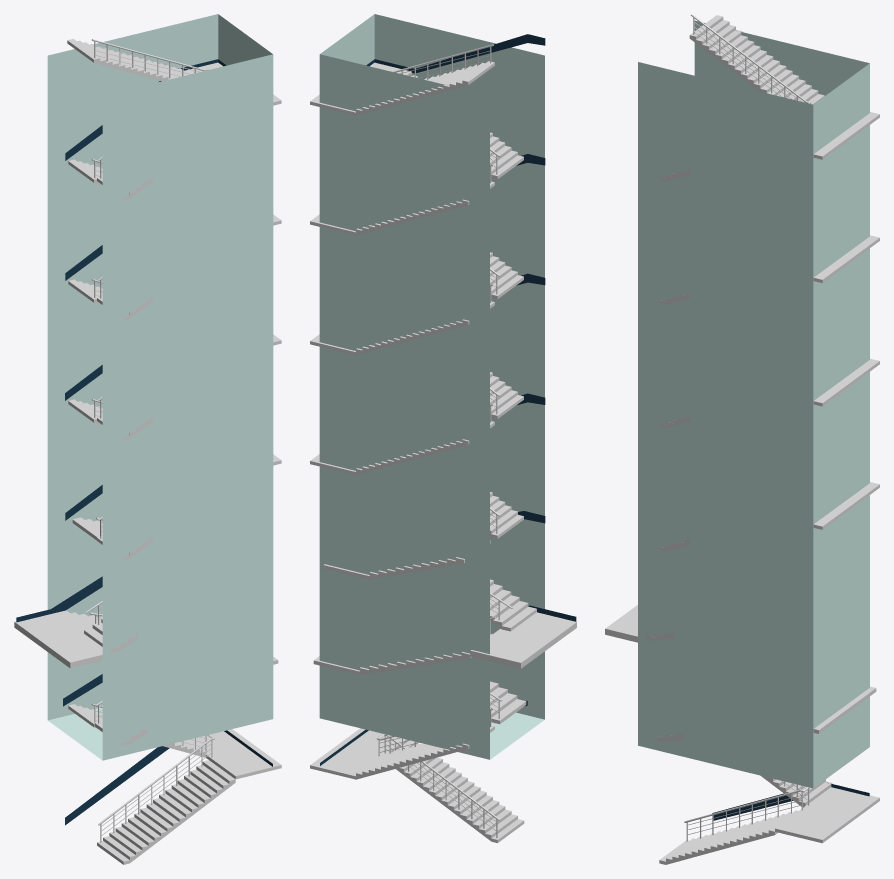
The model's file is UTypeStair_01.fbx.
3 views of the same model, side by side, from view 1: azimuth 30°, elevation 25°; view 2: azimuth 150°, elevation 25°; view 3: azimuth 330°, elevation 25° (orthographic). The views are drawn at different scales.
Parts seen in each view (by area): view 1: Srair_Passage_R, UTypeStair_B2F, Stair_Floor_B1F, UTypeStair_3F001, Stair_Fence_B2F, UTypeStair_B1_b, UTypeStair_1F, UTypeStair_2F, UTypeStair_3F, Stair_Fence_3F001, UTypeStair_B1_a; view 2: Srair_Passage_R, UTypeStair_B2F, UTypeStair_3F001, Stair_Floor_B1F, UTypeStair_B1_b, UTypeStair_B1_a, UTypeStair_1F, UTypeStair_2F, UTypeStair_3F, Stair_Fence_B2F, Stair_Fence_3F001; view 3: Srair_Passage_R, UTypeStair_B2F, UTypeStair_3F001, UTypeStair_1F, UTypeStair_2F, UTypeStair_3F, Stair_Fence_B2F, Stair_Floor_B1F, UTypeStair_B1_a, Stair_Fence_3F001.
Boxes of the visible parts, bbox=[...] form: Srair_Passage_R: bbox=[16, 14, 273, 825]; UTypeStair_B2F: bbox=[68, 703, 281, 864]; Stair_Floor_B1F: bbox=[14, 610, 102, 668]; UTypeStair_3F001: bbox=[67, 39, 281, 200]; Stair_Fence_B2F: bbox=[94, 706, 212, 842]; UTypeStair_B1_b: bbox=[72, 517, 137, 652]; UTypeStair_1F: bbox=[68, 399, 281, 559]; UTypeStair_2F: bbox=[68, 279, 281, 439]; UTypeStair_3F: bbox=[68, 159, 281, 320]; Stair_Fence_3F001: bbox=[94, 41, 200, 178]; UTypeStair_B1_a: bbox=[71, 612, 278, 745]; Srair_Passage_R: bbox=[319, 14, 576, 765]; UTypeStair_B2F: bbox=[310, 708, 524, 843]; UTypeStair_3F001: bbox=[310, 44, 523, 179]; Stair_Floor_B1F: bbox=[470, 612, 576, 668]; UTypeStair_B1_b: bbox=[323, 540, 536, 631]; UTypeStair_B1_a: bbox=[313, 617, 526, 724]; UTypeStair_1F: bbox=[310, 404, 523, 538]; UTypeStair_2F: bbox=[310, 284, 523, 418]; UTypeStair_3F: bbox=[310, 164, 523, 299]; Stair_Fence_B2F: bbox=[378, 710, 497, 837]; Stair_Fence_3F001: bbox=[400, 46, 497, 174]; Srair_Passage_R: bbox=[638, 20, 869, 820]; UTypeStair_B2F: bbox=[659, 776, 879, 864]; UTypeStair_3F001: bbox=[659, 14, 879, 181]; UTypeStair_1F: bbox=[659, 482, 879, 551]; UTypeStair_2F: bbox=[659, 358, 879, 428]; UTypeStair_3F: bbox=[659, 235, 879, 304]; Stair_Fence_B2F: bbox=[686, 780, 809, 841]; Stair_Floor_B1F: bbox=[605, 605, 637, 642]; UTypeStair_B1_a: bbox=[657, 686, 876, 741]; Stair_Fence_3F001: bbox=[693, 17, 802, 101].
Bounding box in the file's own units: 6.46 × 23.43 × 2.98.
